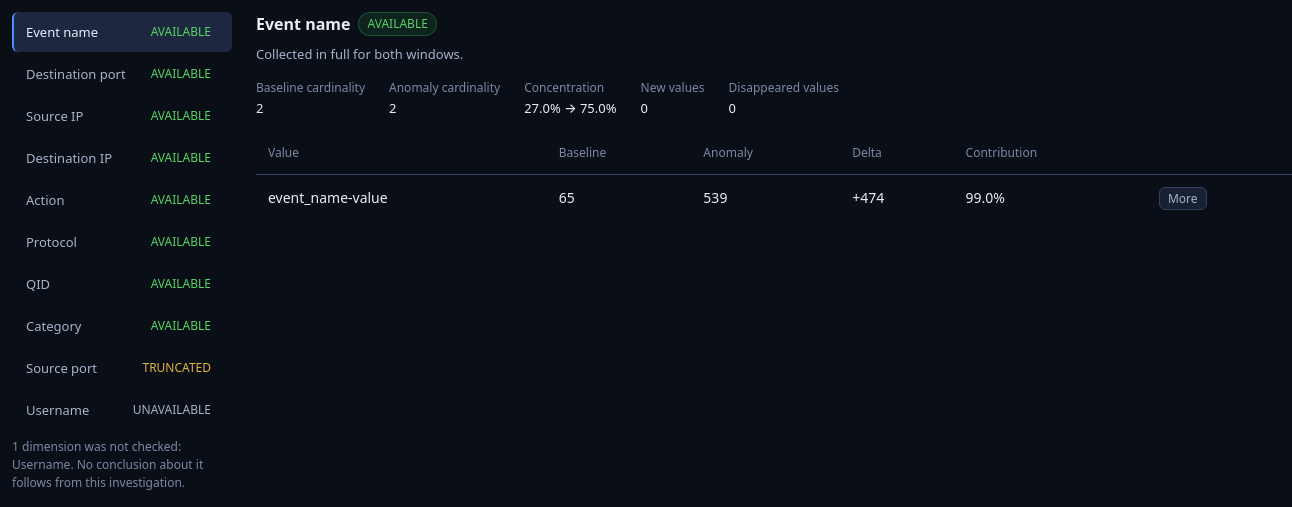
Test: switching dimensions › shows an unavailable dimension's panel rather than an empty table
What coordinates should you click on to do the following:
click the button "Username UNAVAILABLE"
I would click on:
 (122, 410)
Its box is [12,390,232,430].
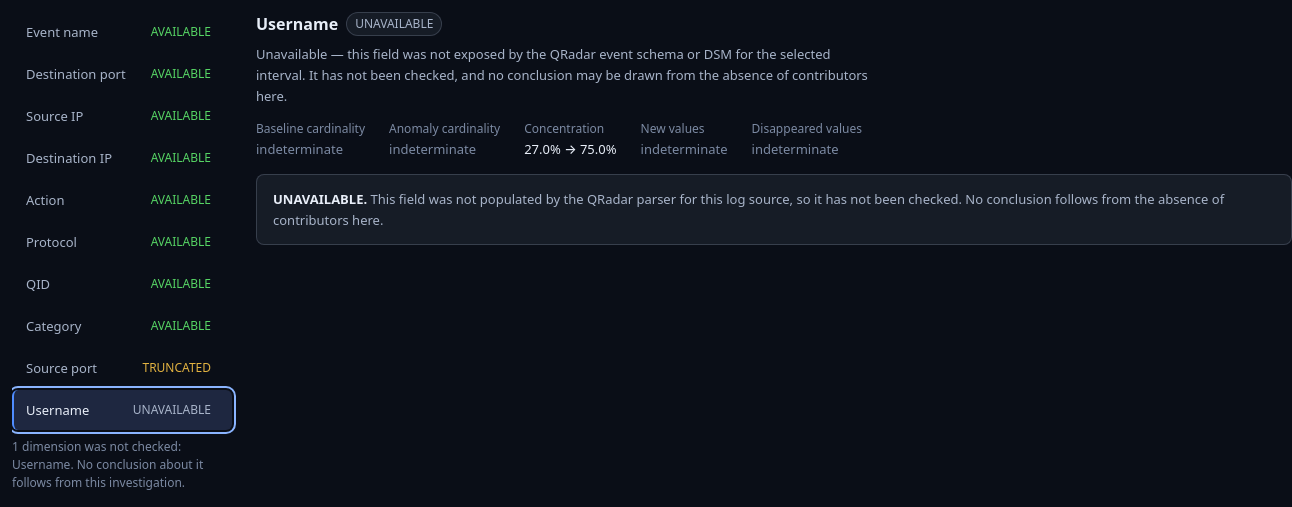
Result: the table is gone
Result: the text "No conclusion follows from the absence of contributors" is shown at [273,190,1224,229]
